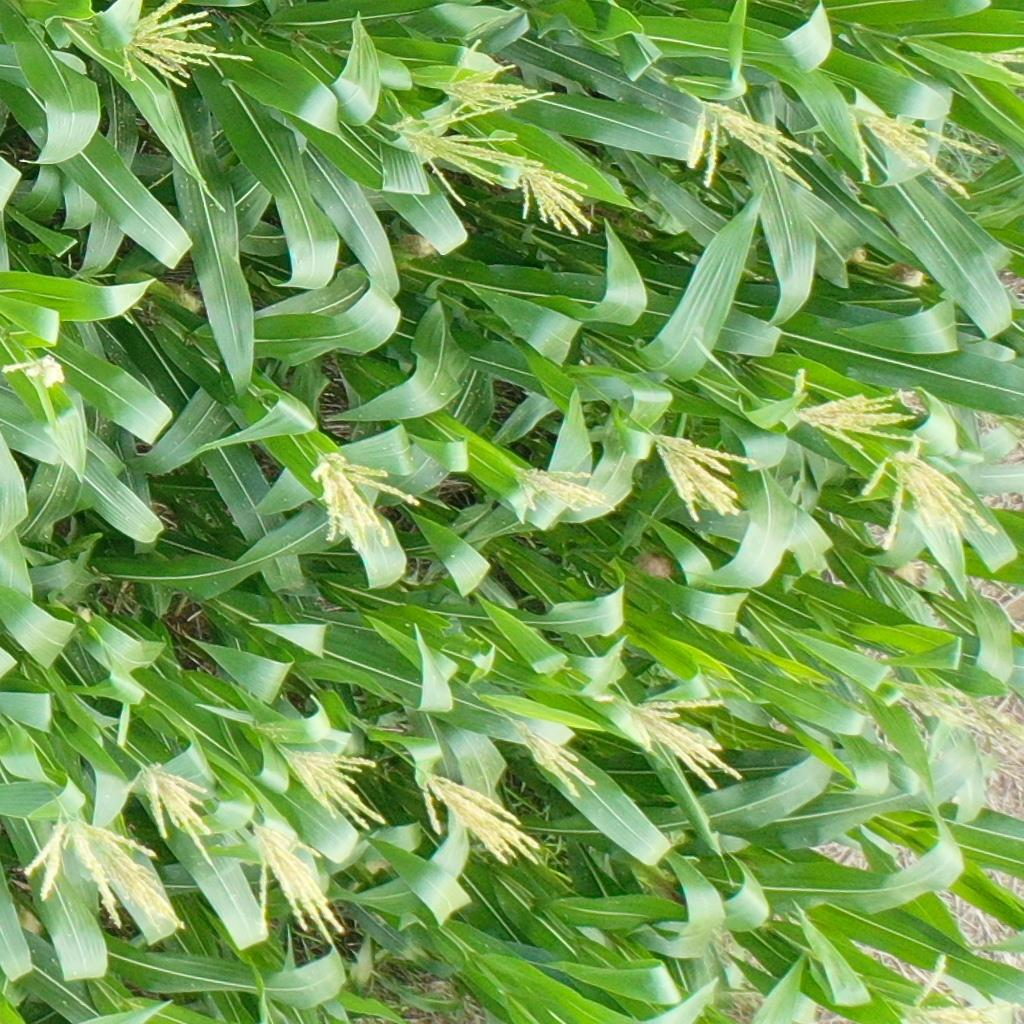Tassel: (24, 810, 186, 934), (393, 90, 557, 206), (859, 449, 1001, 551), (615, 689, 747, 795), (686, 92, 821, 193), (412, 761, 543, 865), (252, 819, 351, 947), (115, 1, 256, 89), (786, 366, 924, 455), (851, 110, 983, 198), (273, 735, 389, 833), (311, 453, 422, 552), (652, 433, 760, 523), (129, 760, 216, 864), (904, 952, 1022, 1024), (506, 714, 599, 799), (434, 37, 538, 109), (888, 676, 991, 742), (521, 165, 598, 237), (515, 466, 617, 515), (1, 351, 65, 388), (972, 40, 1024, 85), (986, 707, 1024, 742), (76, 263, 116, 290)
